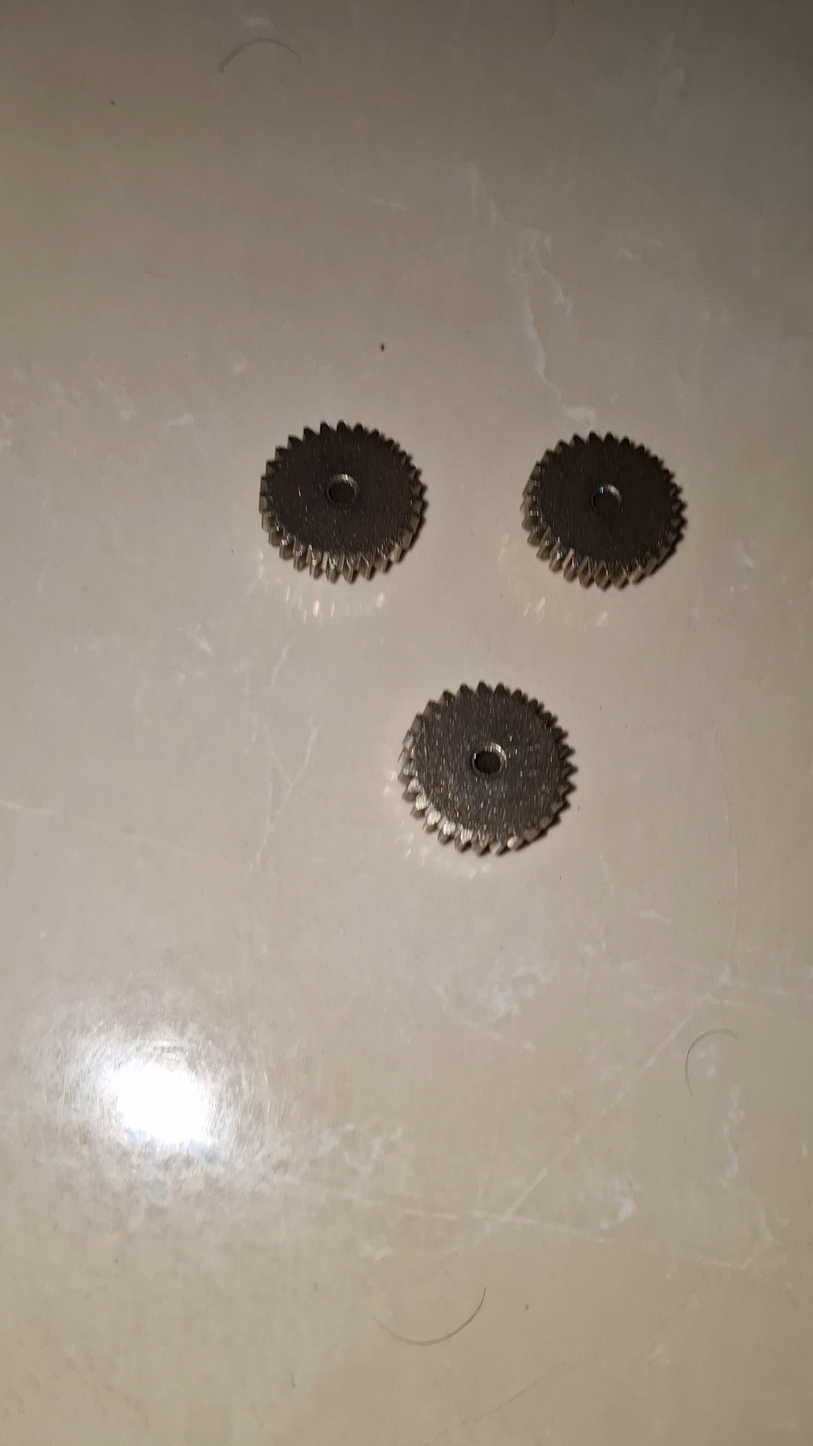spur gear: (400, 683, 572, 853), (260, 423, 423, 581), (523, 433, 682, 587)
